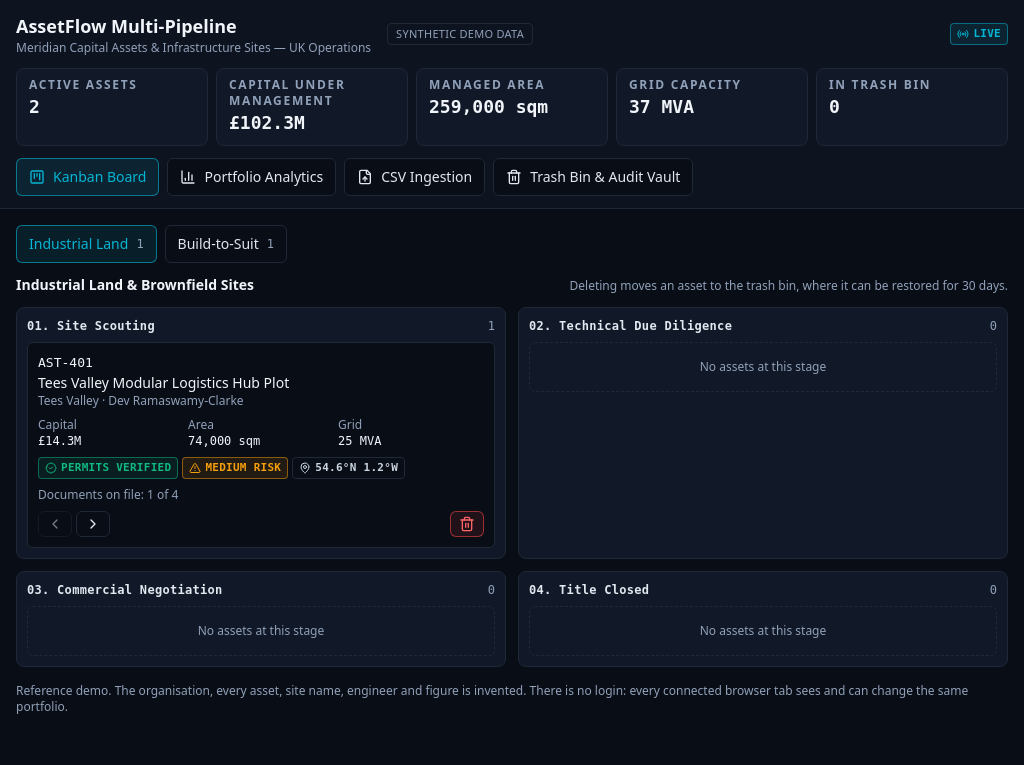
Test case: App › offers the four views
Click the button "Portfolio Analytics" at (252, 177), box [168,158,336,196]
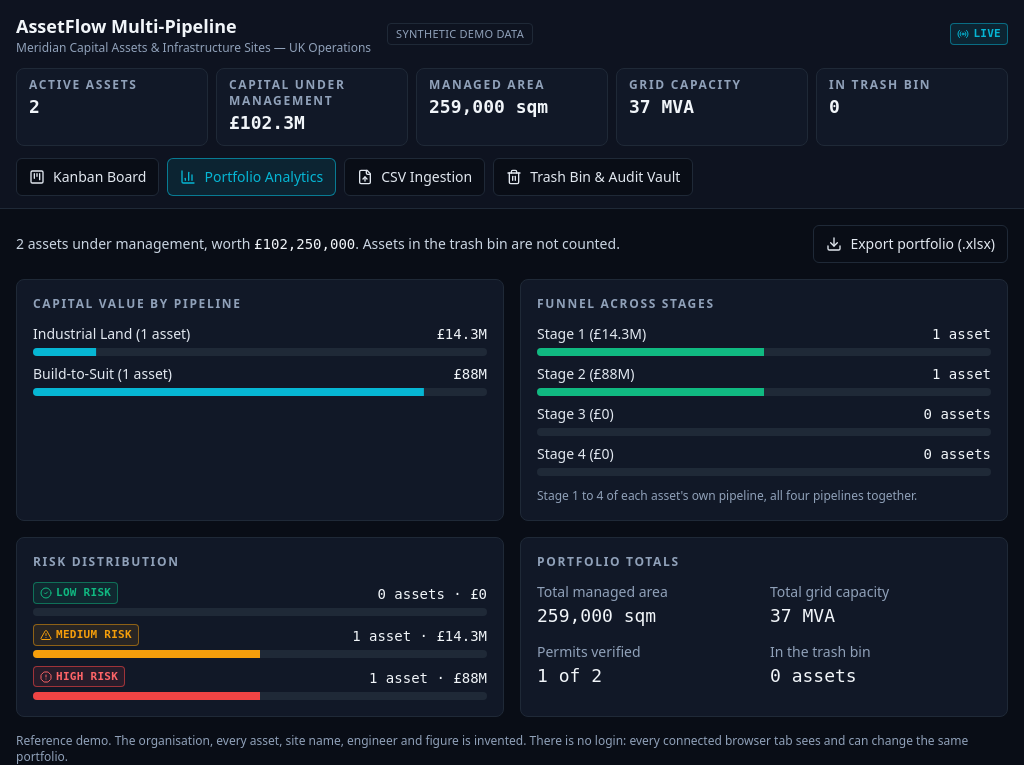
Expected: the element named "Executive portfolio analytics" is shown
Click the button "CSV Ingestion" at (415, 177), box [344,158,485,196]
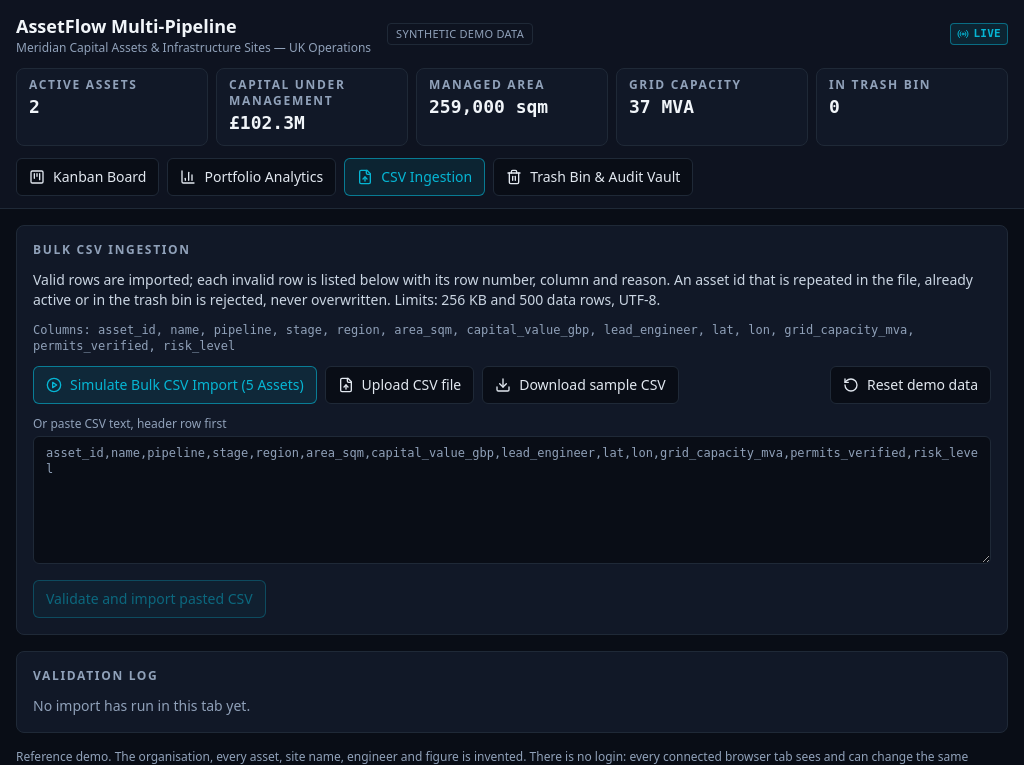
Expected: the button "Simulate Bulk CSV Import (5 Assets)" is shown, [33,366,317,404]
Click the button "Trash Bin & Audit Vault" at (593, 177), box [493,158,693,196]
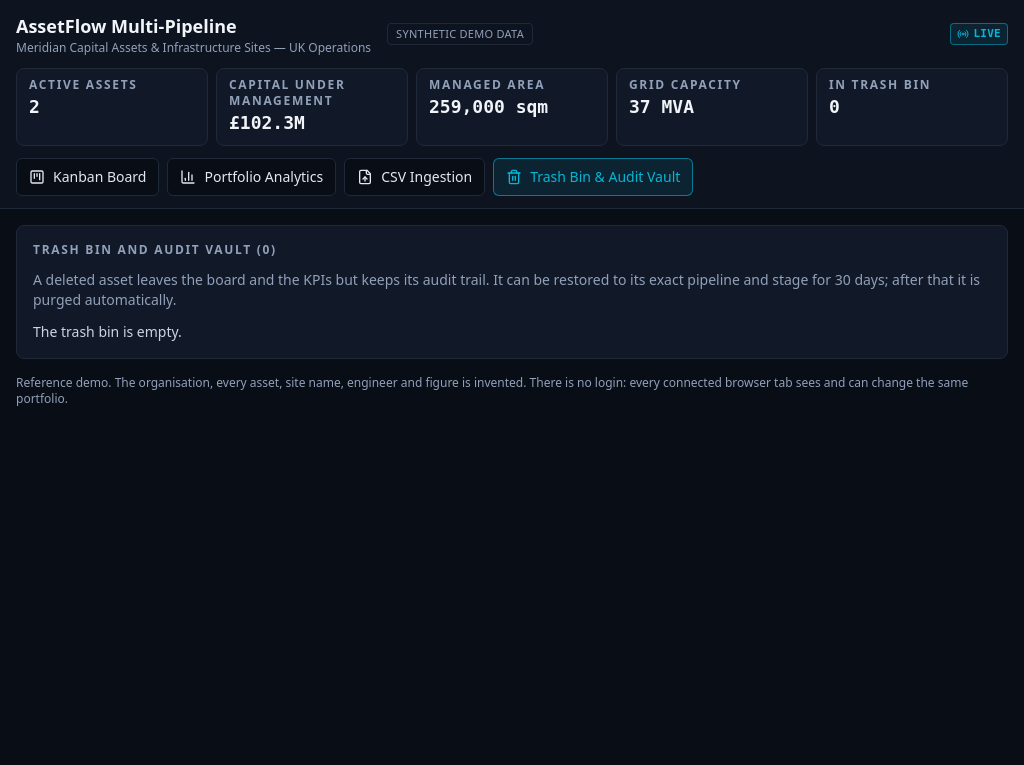
Expected: the element named "Soft-delete trash bin and audit vault" is shown, [16,225,1008,359]
Click the button "Kanban Board" at (88, 177), box [16,158,160,196]
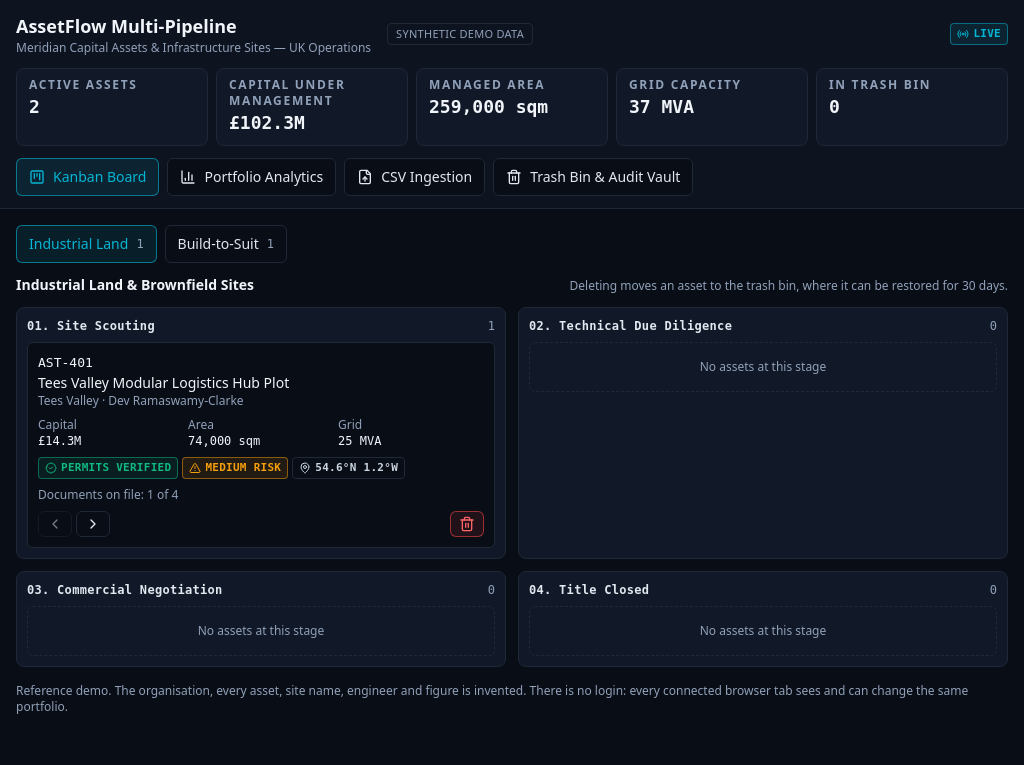
Expected: the element named "Multi-pipeline Kanban board" is shown, [16,225,1008,667]
